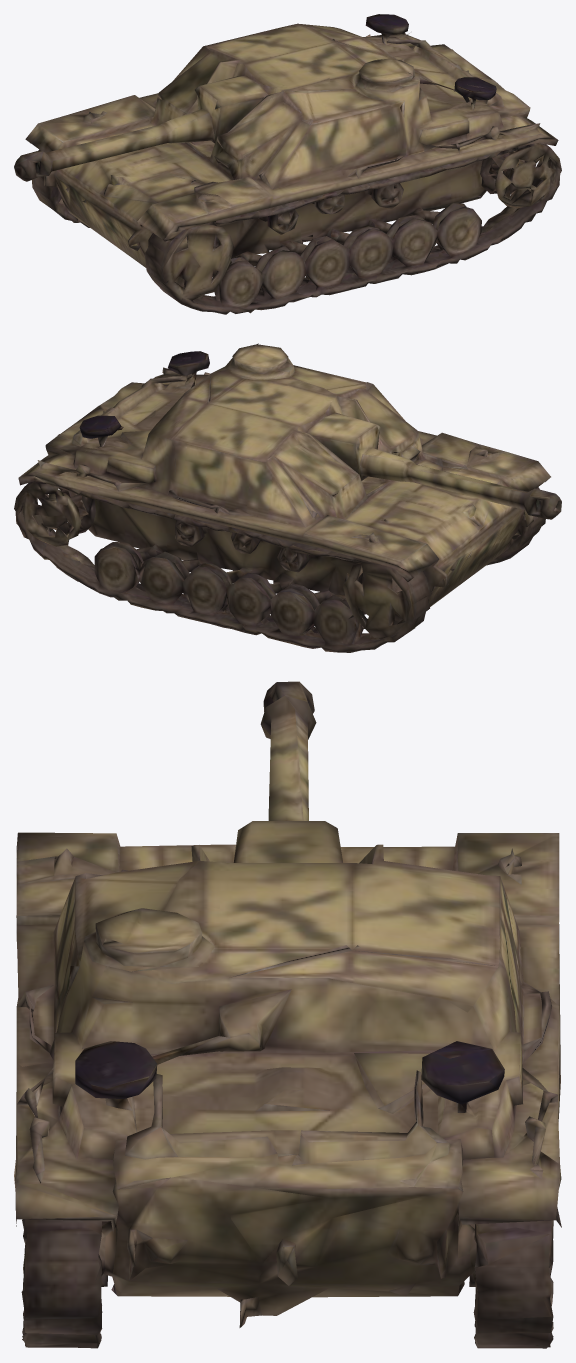
File: tank-stug.glb
3 views of the same model, one above another, from view 1: azimuth 30°, elevation 25°; view 2: azimuth 150°, elevation 25°; view 3: azimuth 270°, elevation 25° (orthographic). The views are drawn at different scales.
Parts seen in each view (by area): view 1: Mesh_0; view 2: Mesh_0; view 3: Mesh_0.
Boxes of the visible parts, box(x1,y1,x2,y2) form: Mesh_0: box(14, 14, 561, 314); Mesh_0: box(14, 343, 561, 652); Mesh_0: box(14, 681, 561, 1348).
Bounding box in the file's own units: 1.9 × 0.6946 × 0.9557.
Materials: 1 (1 with a texture image).
